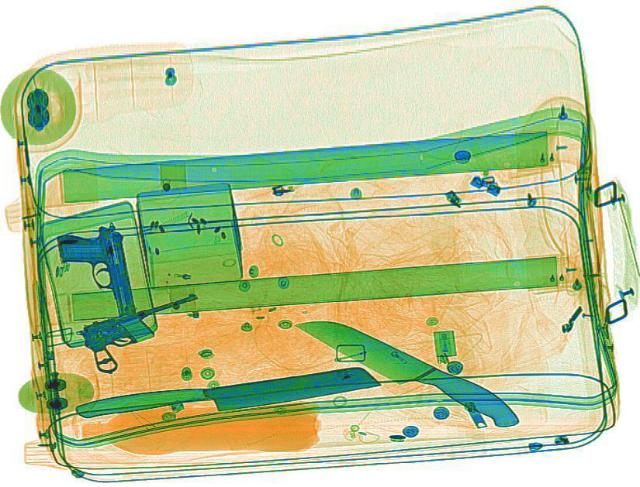Gun: (56, 288, 222, 377), (51, 220, 138, 321)
Knife: (286, 299, 532, 436), (72, 360, 386, 428)
